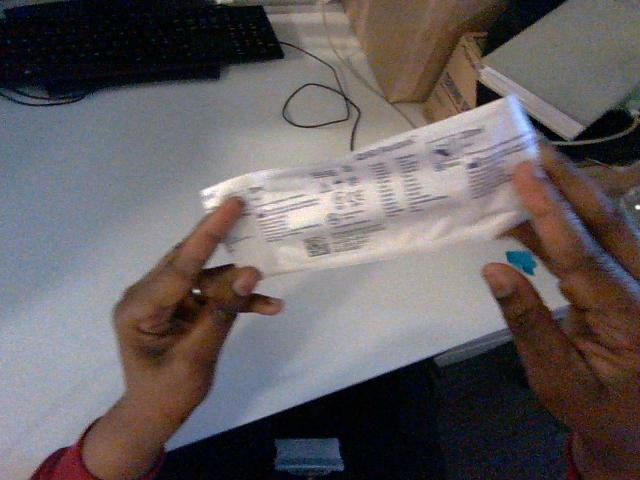syringe: (201, 97, 537, 275)
